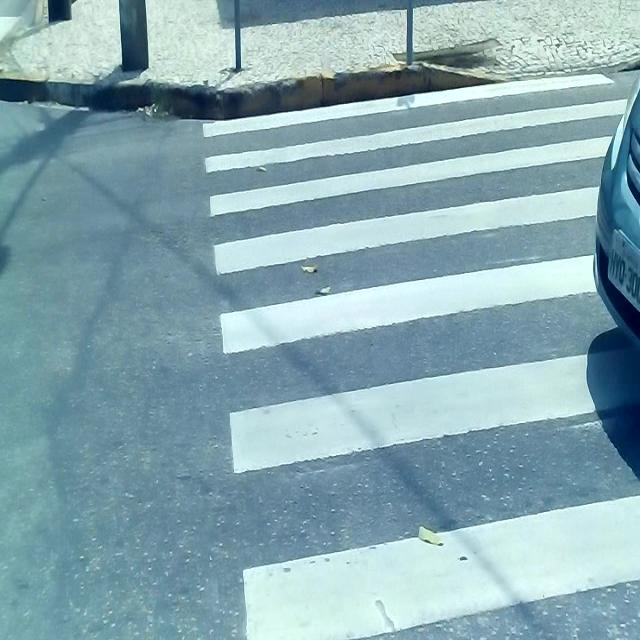crosswalk: (201, 72, 640, 640)
